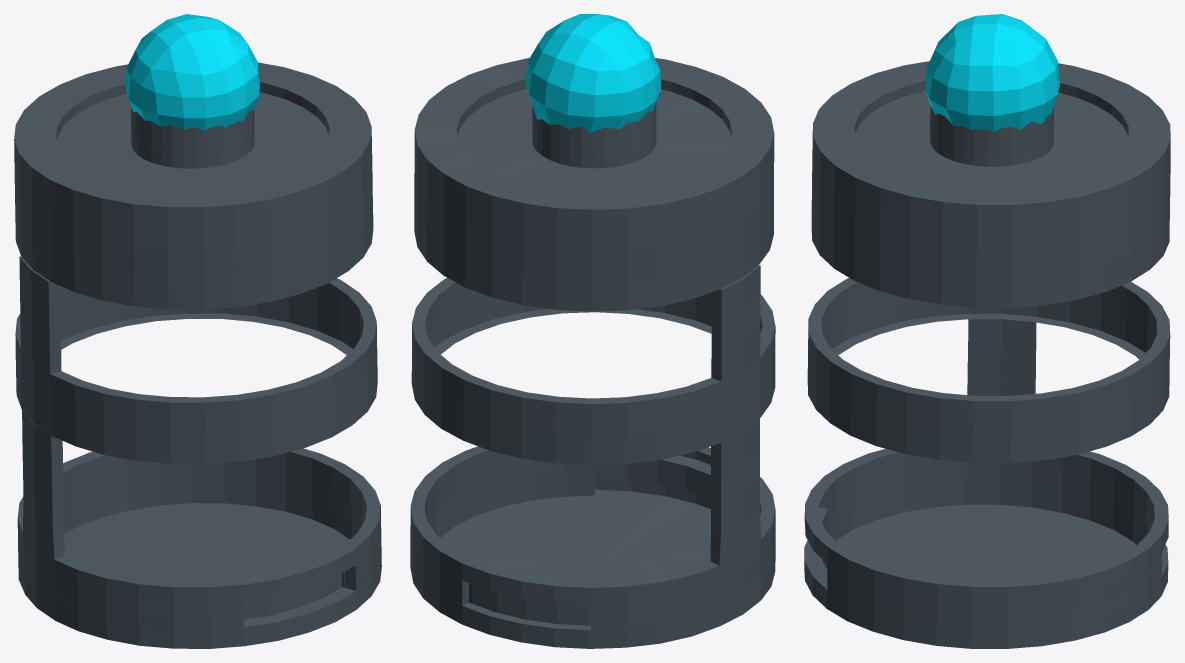
Rendered from tapaazul.fbx.
3 renders of one model, left to right at view 1: azimuth 30°, elevation 25°; view 2: azimuth 150°, elevation 25°; view 3: azimuth 270°, elevation 25°, orthographic.
Visible parts, largest first — view 1: pOSION; view 2: pOSION; view 3: pOSION.
Part boxes in pixels (x1,y1,x2,y2): pOSION: (14, 14, 381, 648); pOSION: (410, 14, 775, 648); pOSION: (804, 14, 1170, 648).
Bounding box in the file's own units: 21.15 × 35.26 × 21.12.
